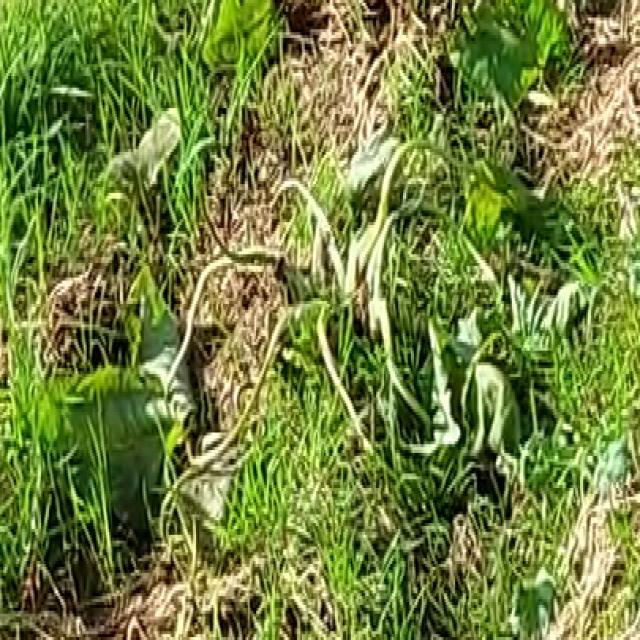organic waste: (95, 11, 580, 544)
